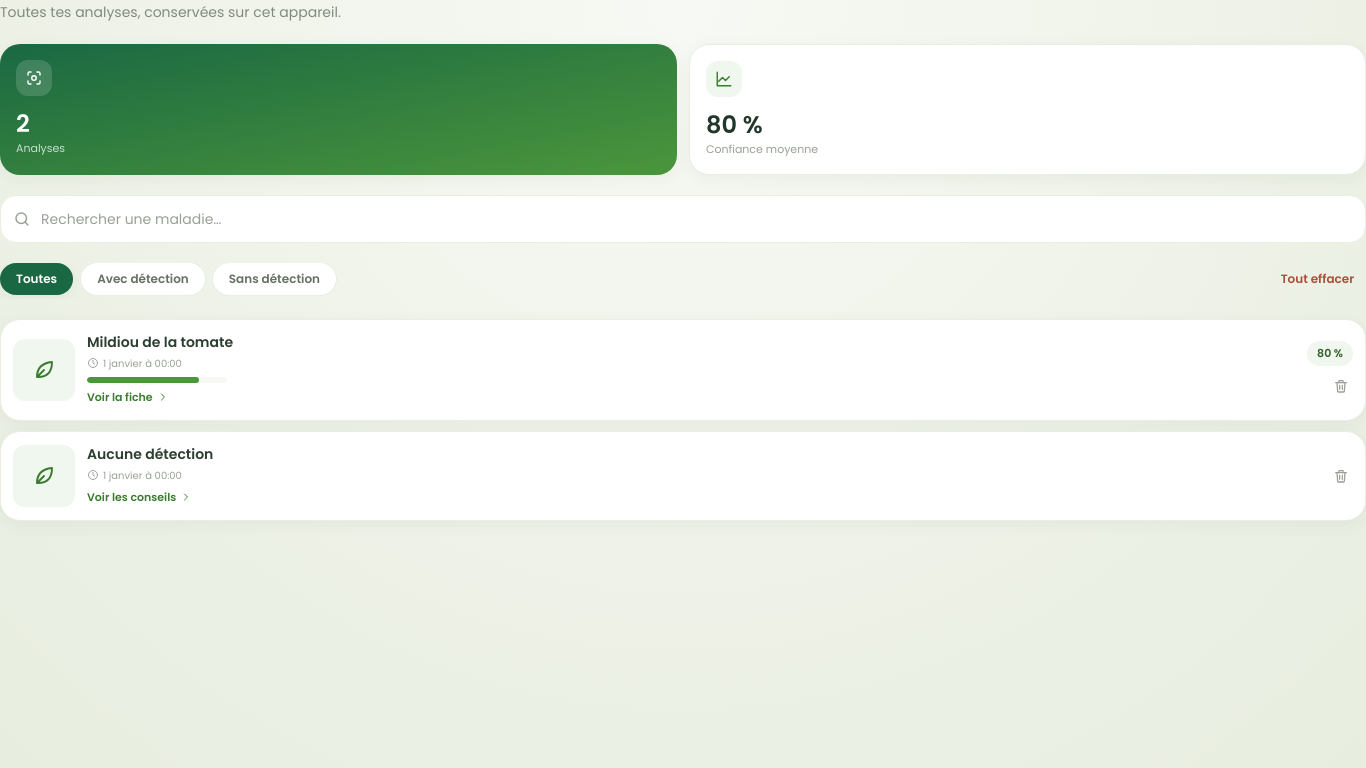
Test: filtre « sans détection » et recherche
Click the button "Sans détection" at (274, 278), box 213,262 -> 336,294
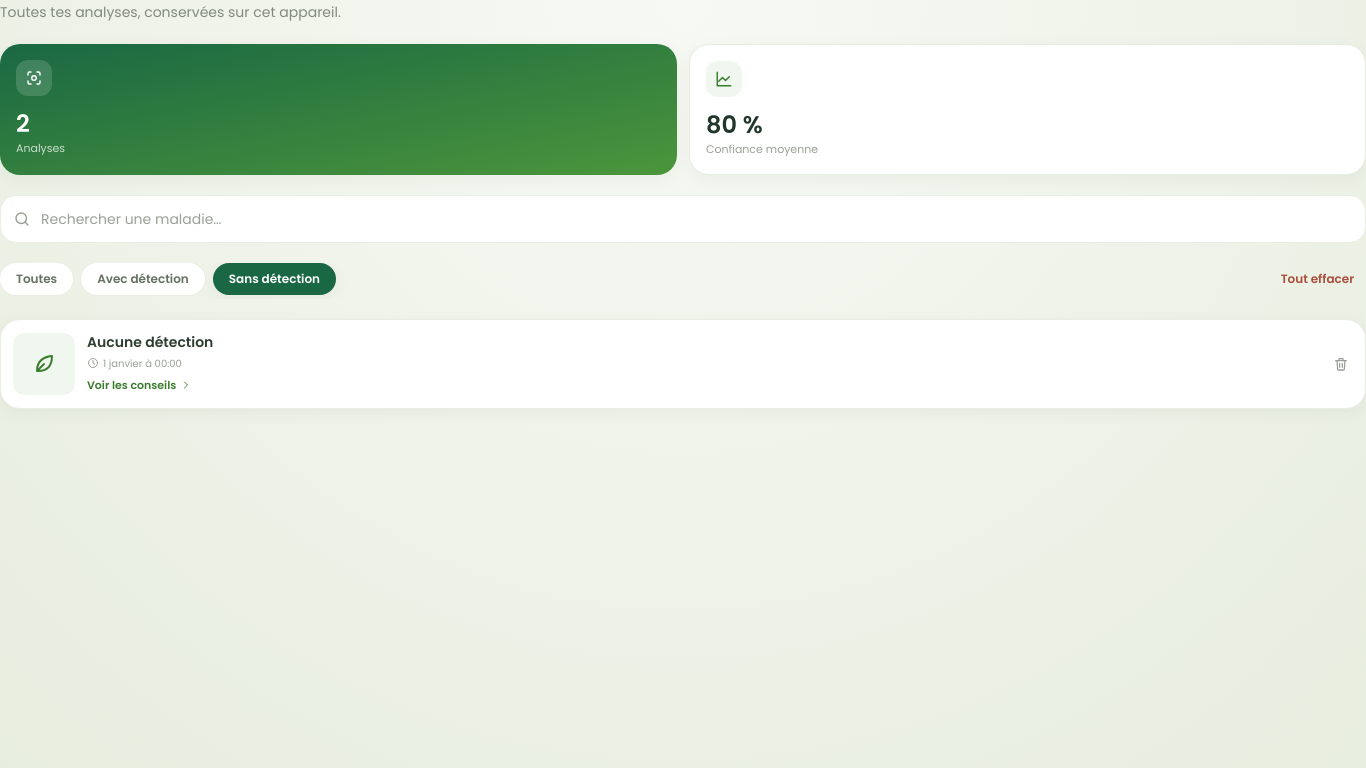
expect the text "Aucune détection" is shown: met, box 87,332 -> 213,352
expect the link "Mildiou de la tomate" is gone: met
Click the button "Toutes" at (37, 278), box 0,262 -> 73,294
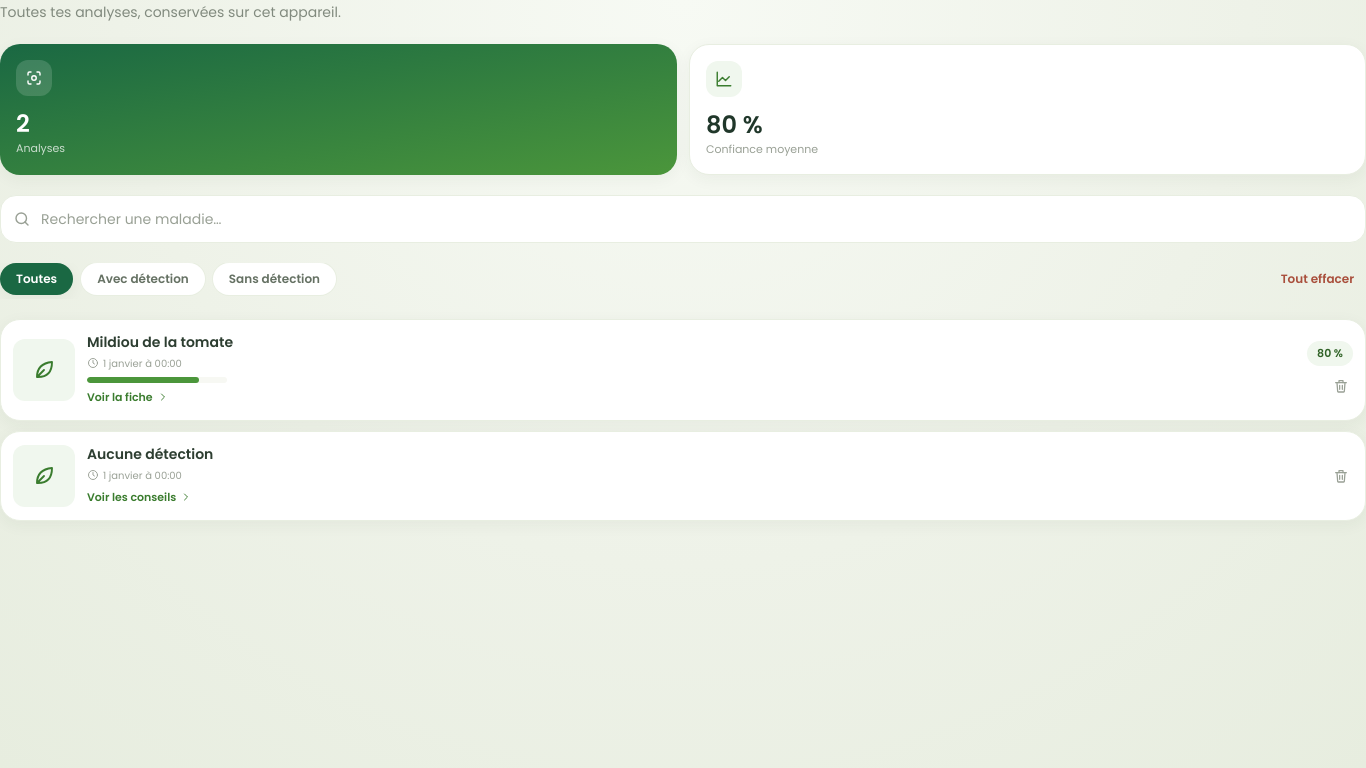
Type "mildiou" into the search field at (697, 218), box 41,208 -> 1353,228
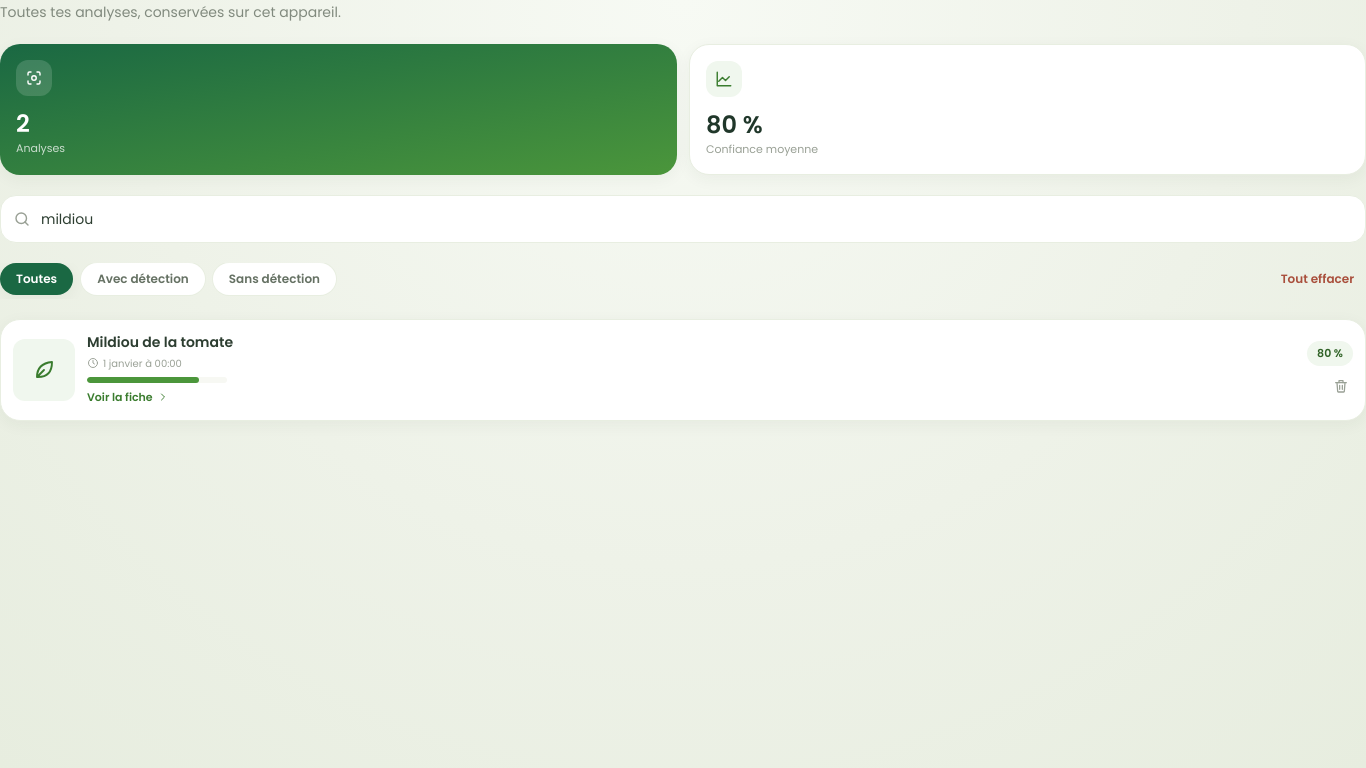
expect the text "Mildiou de la tomate" is shown: met, box 87,332 -> 233,352
expect the link "Aucune détection" is gone: met
